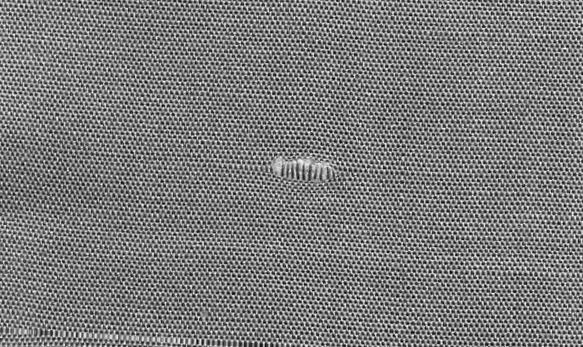slub: (270, 154, 338, 185)
